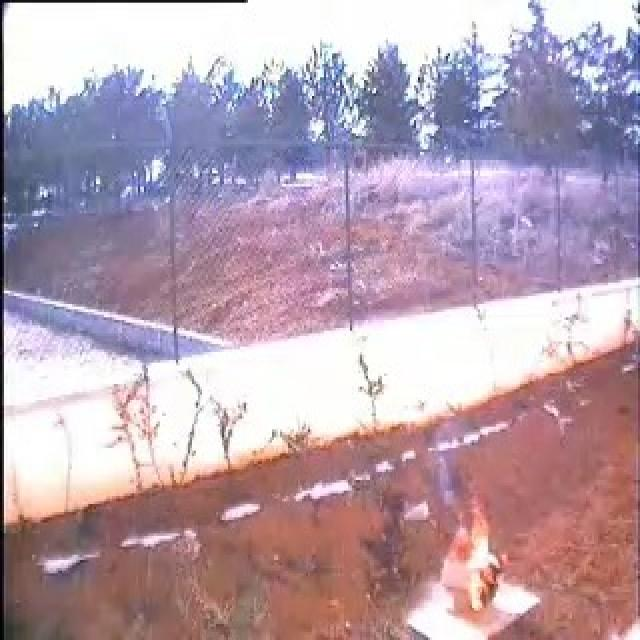fire: (441, 498, 510, 586)
smoke: (429, 424, 466, 514)
